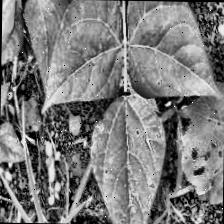ALS: (88, 97, 164, 224), (123, 0, 217, 97), (179, 94, 224, 210)
